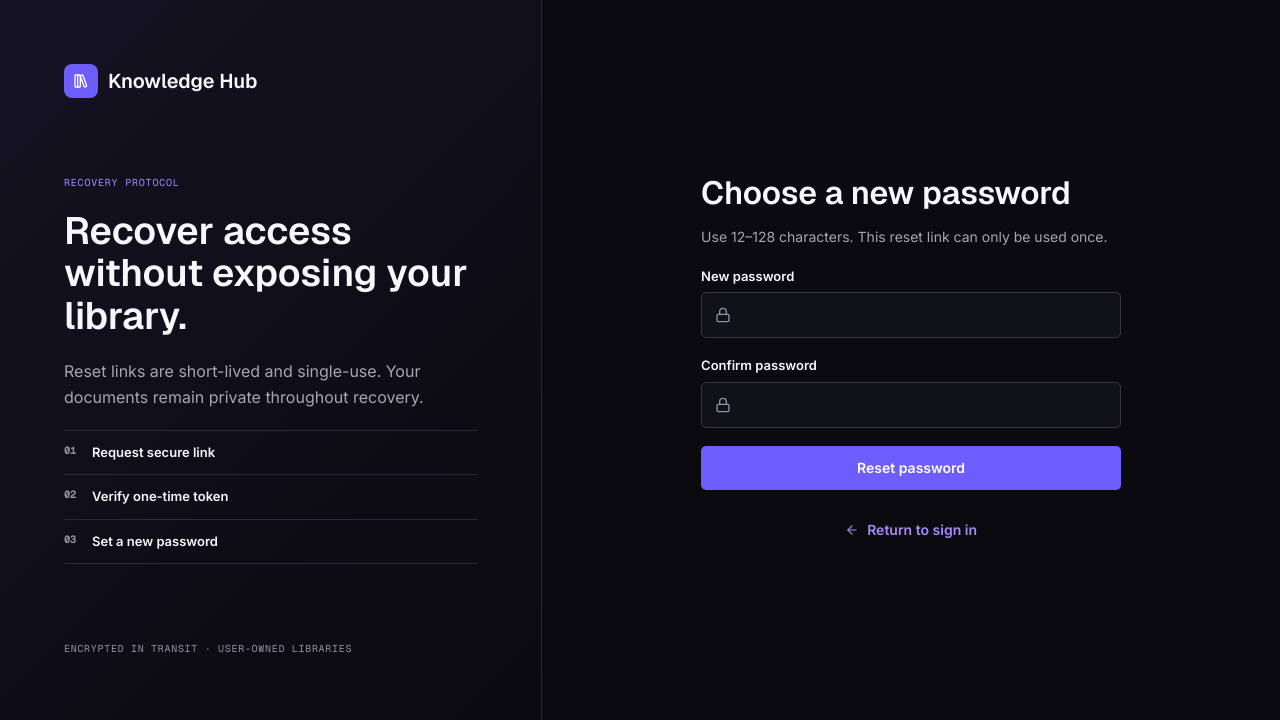
login › resets the password with the route token and returns to sign in
The width and height of the screenshot is (1280, 720).
Type "correct-horse-battery" into the password field labelled "New password" at [911, 315], box [701,292,1121,338]
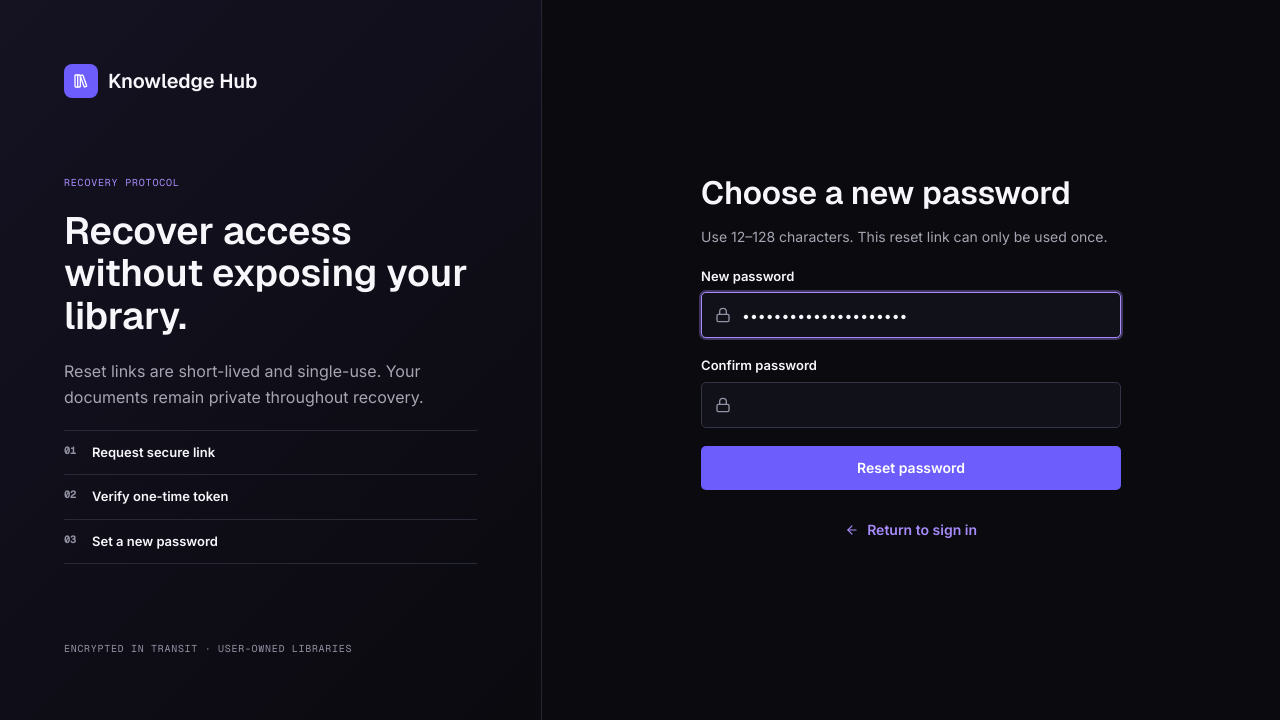
Type "correct-horse-battery" into the password field labelled "Confirm password" at [911, 404], box [701,382,1121,428]
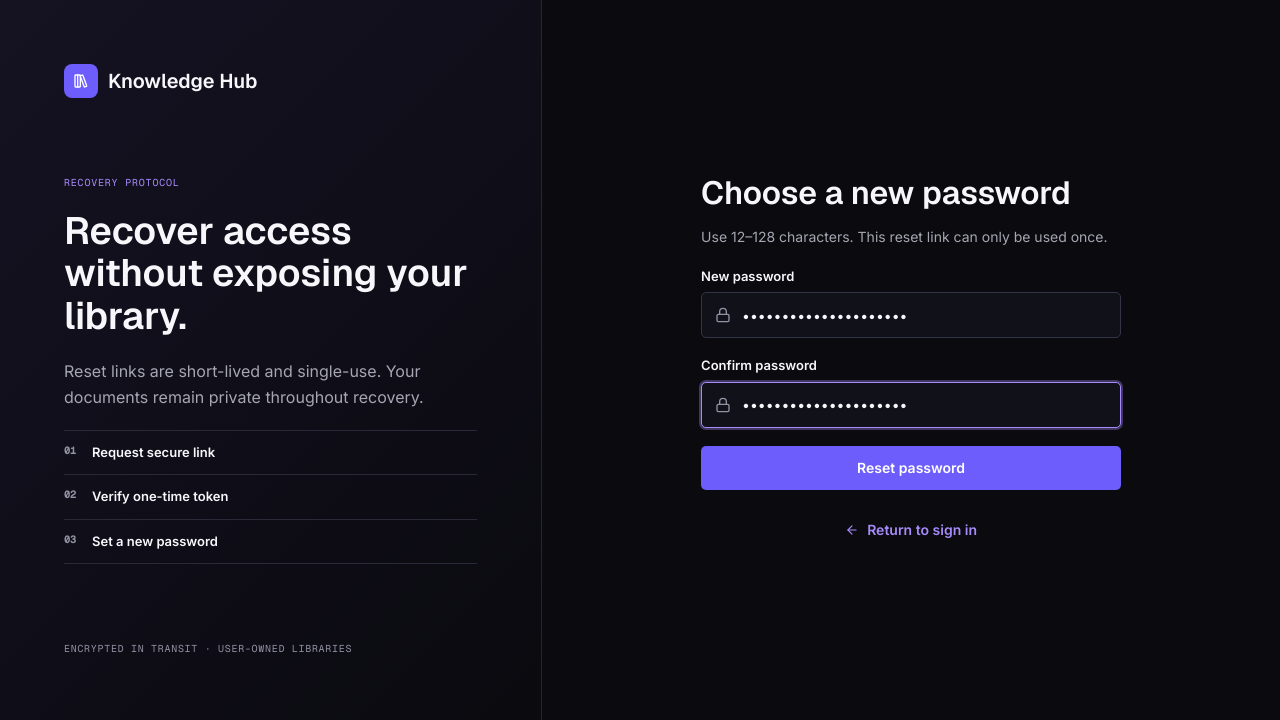
Click the button "Reset password" at [911, 468], box [701,446,1121,490]
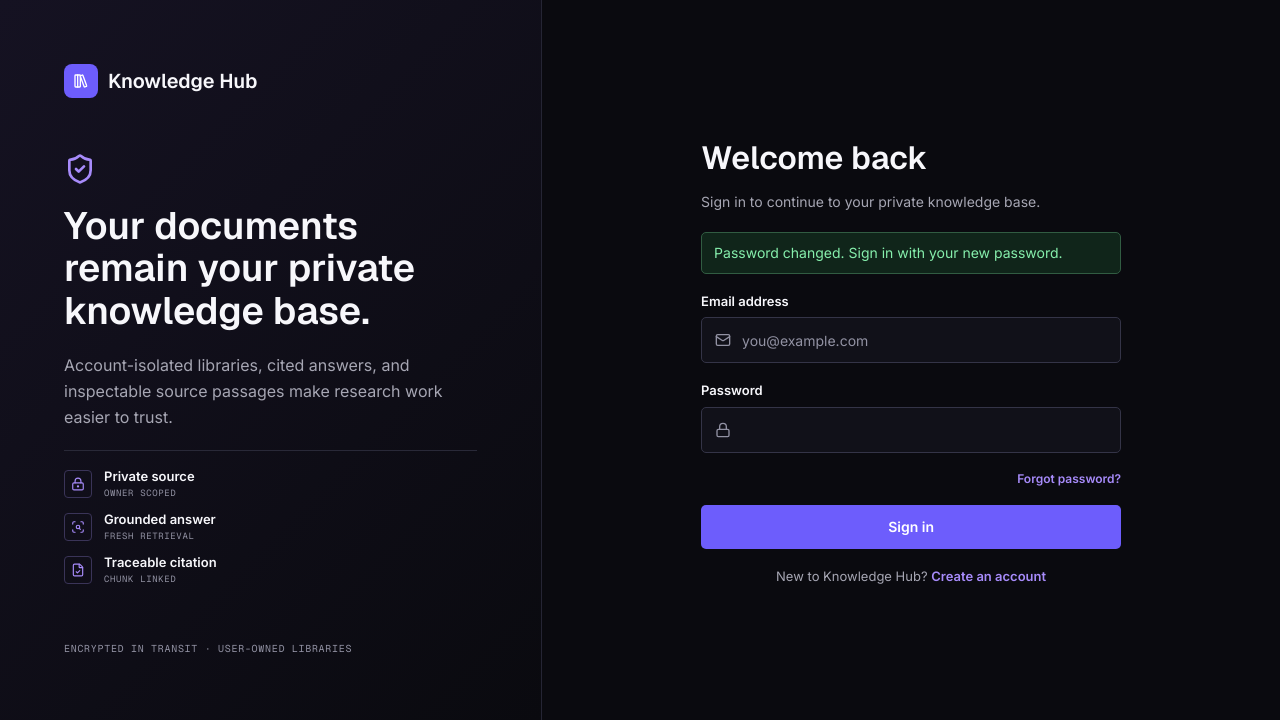
Expected: the text "Password changed. Sign in with your new password." is shown, [701,232,1121,274]
